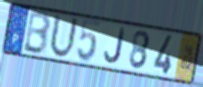4: (152, 33, 174, 77)
5: (76, 18, 104, 64)
8: (128, 30, 150, 71)
B: (22, 10, 53, 57)
J: (103, 27, 127, 66)
U: (47, 13, 80, 61)
